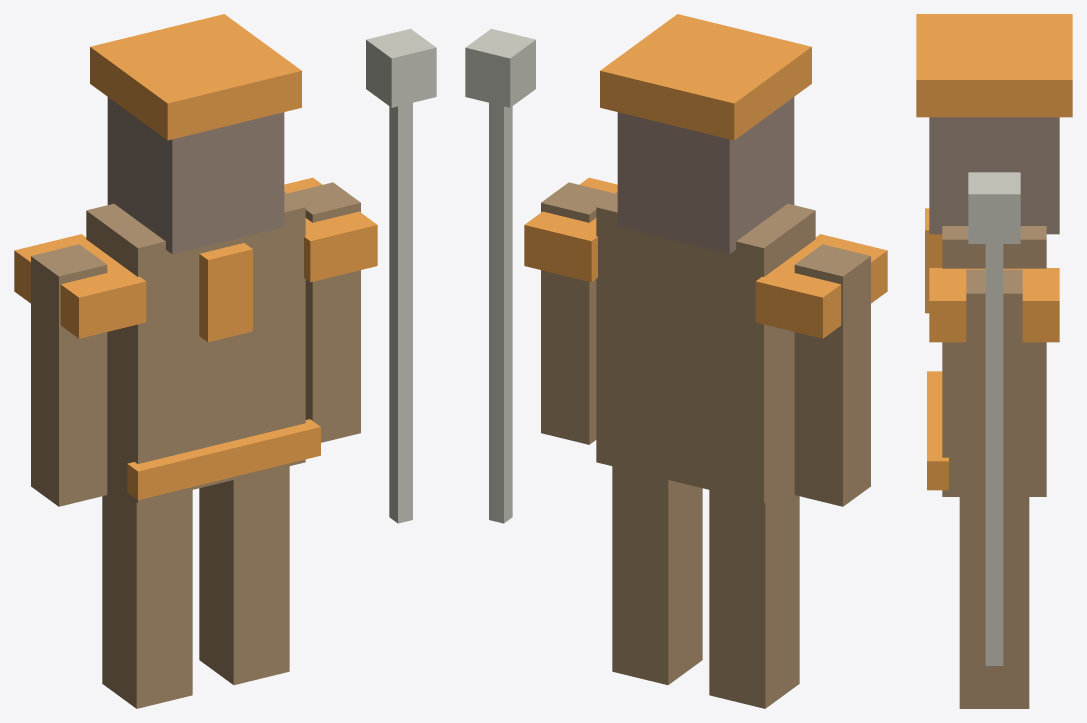
Rendered from 11_juno_tideforged_medic_of_stanza.glb.
3 renders of one model, left to right at view 1: azimuth 30°, elevation 25°; view 2: azimuth 150°, elevation 25°; view 3: azimuth 270°, elevation 25°, orthographic.
Parts seen in each view (by area): view 1: Juno Tideforged, Medic of Stanza; view 2: Juno Tideforged, Medic of Stanza; view 3: Juno Tideforged, Medic of Stanza.
Part boxes in pixels (<box>): Juno Tideforged, Medic of Stanza: <box>14,14,436,708</box>; Juno Tideforged, Medic of Stanza: <box>465,14,887,708</box>; Juno Tideforged, Medic of Stanza: <box>916,14,1072,708</box>.
Size of the model in its own units: 1.04 by 1.63 by 0.3699.
